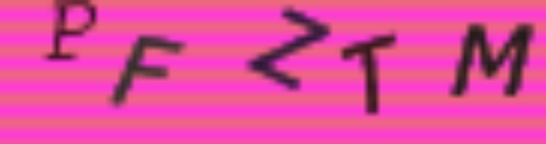F: (107, 36, 188, 106)
M: (447, 19, 534, 103)
P: (43, 1, 99, 62)
T: (337, 30, 402, 120)
Z: (245, 7, 337, 98)
